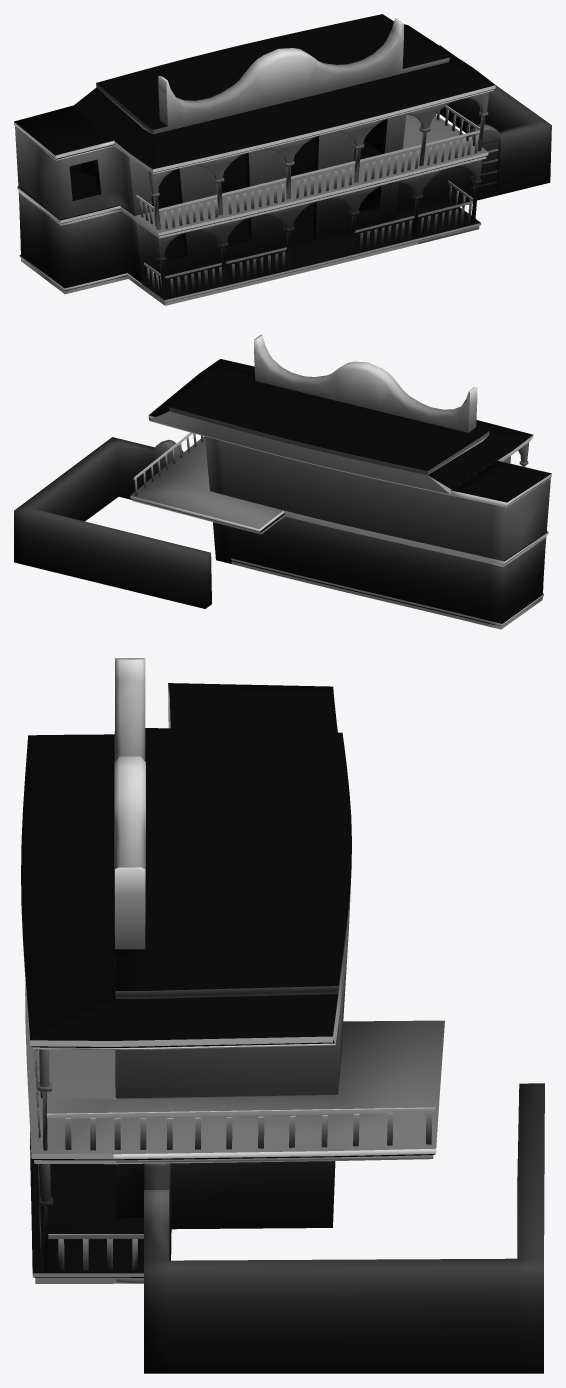
File: BuildingBoss.glb
The picture shows the model from 3 angles, top to bottom: view 1: azimuth 30°, elevation 25°; view 2: azimuth 150°, elevation 25°; view 3: azimuth 270°, elevation 25°; orthographic projection. The views are drawn at different scales.
Parts seen in each view (by area): view 1: BuildingBoss; view 2: BuildingBoss; view 3: BuildingBoss.
Part boxes in pixels (x1=…): BuildingBoss: x1=14, y1=14, x2=551, y2=305; BuildingBoss: x1=14, y1=334, x2=551, y2=629; BuildingBoss: x1=21, y1=658, x2=544, y2=1373.
Size of what is drawn, in the model's own units: 33.5 by 13.2 by 17.06.
Materials: 1 (1 with a texture image).
